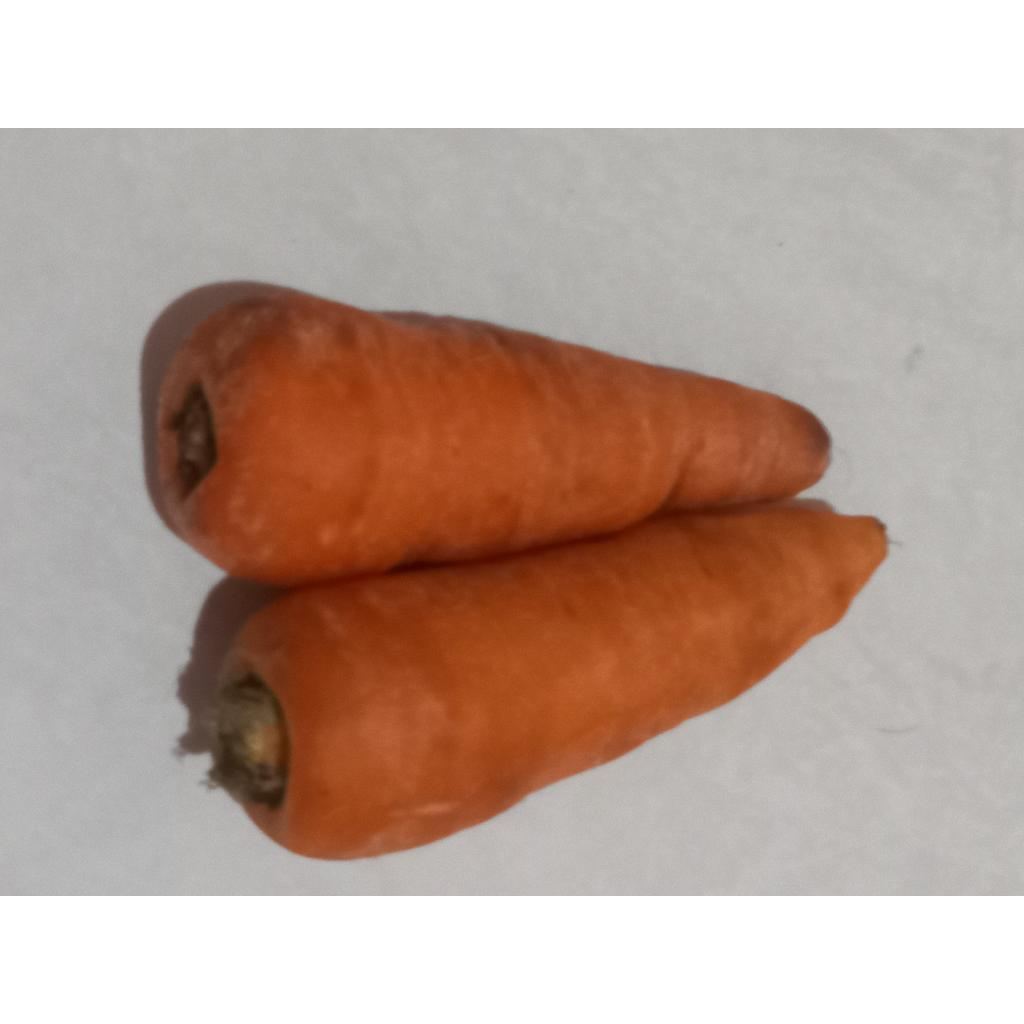carrot: (212, 504, 886, 858), (152, 282, 830, 584)
